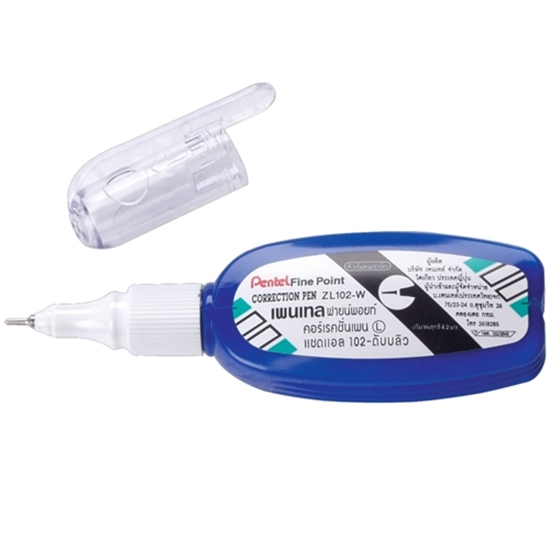Correction_fluid: (1, 223, 550, 408)
